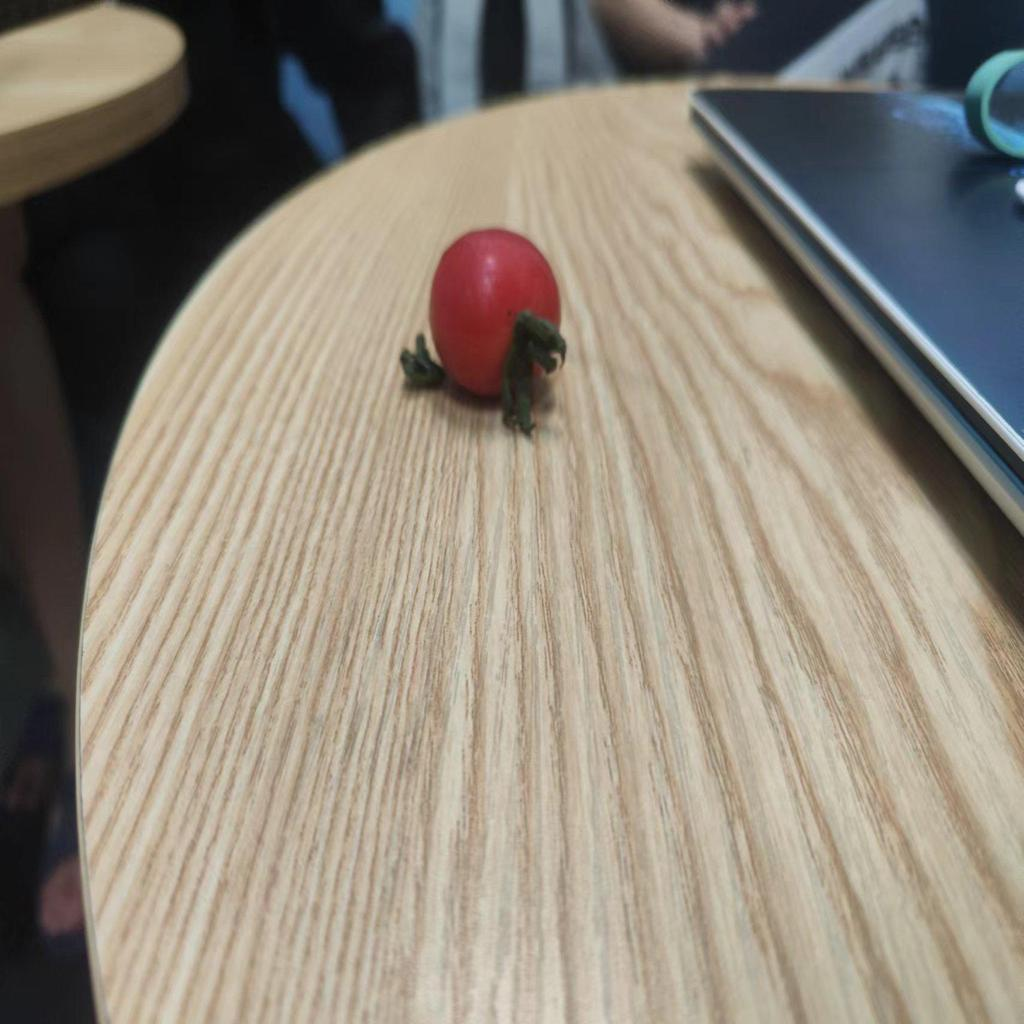tomato: (423, 232, 584, 414)
